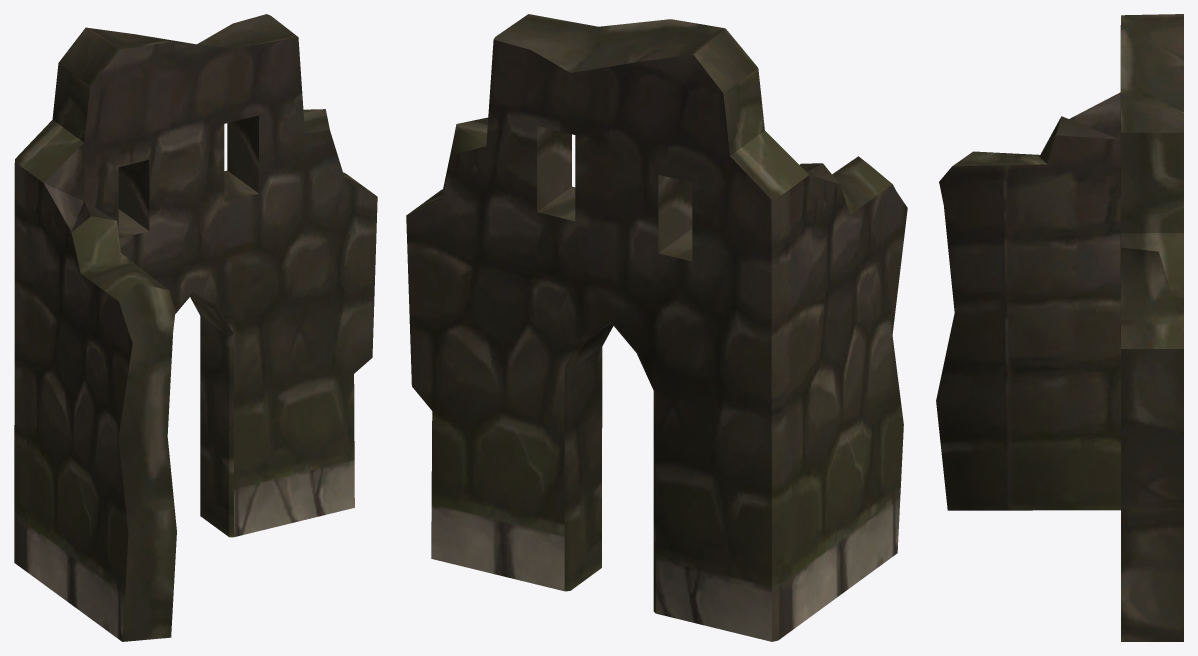
Rendered from environment_common_Stonewall_003_b.FBX.
3 views of the same model, side by side, from view 1: azimuth 30°, elevation 25°; view 2: azimuth 150°, elevation 25°; view 3: azimuth 270°, elevation 25° (orthographic). The views are drawn at different scales.
Visible parts, largest first — view 1: environment_common_Stonewall_003_b; view 2: environment_common_Stonewall_003_b; view 3: environment_common_Stonewall_003_b.
Boxes of the visible parts, left/top/right/bottom form: environment_common_Stonewall_003_b: left=14, top=14, right=377, bottom=641; environment_common_Stonewall_003_b: left=406, top=14, right=907, bottom=641; environment_common_Stonewall_003_b: left=936, top=14, right=1183, bottom=641.
Bounding box in the file's own units: 316 × 464 × 204.
